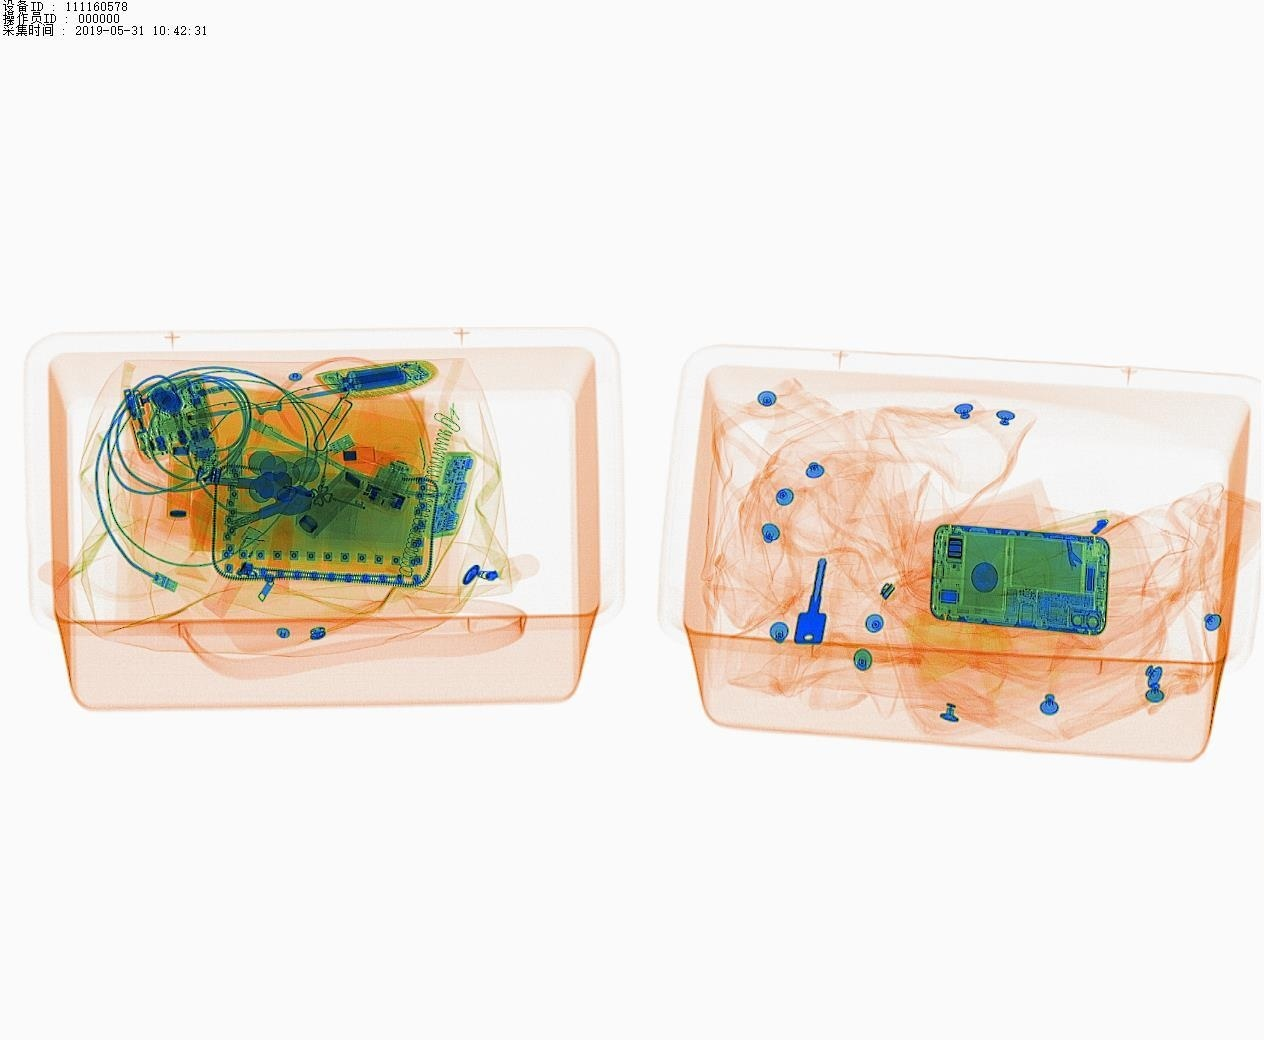NonmetallicFire: (205, 521, 292, 631)
